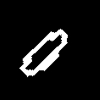chain: (20, 29, 67, 76)
